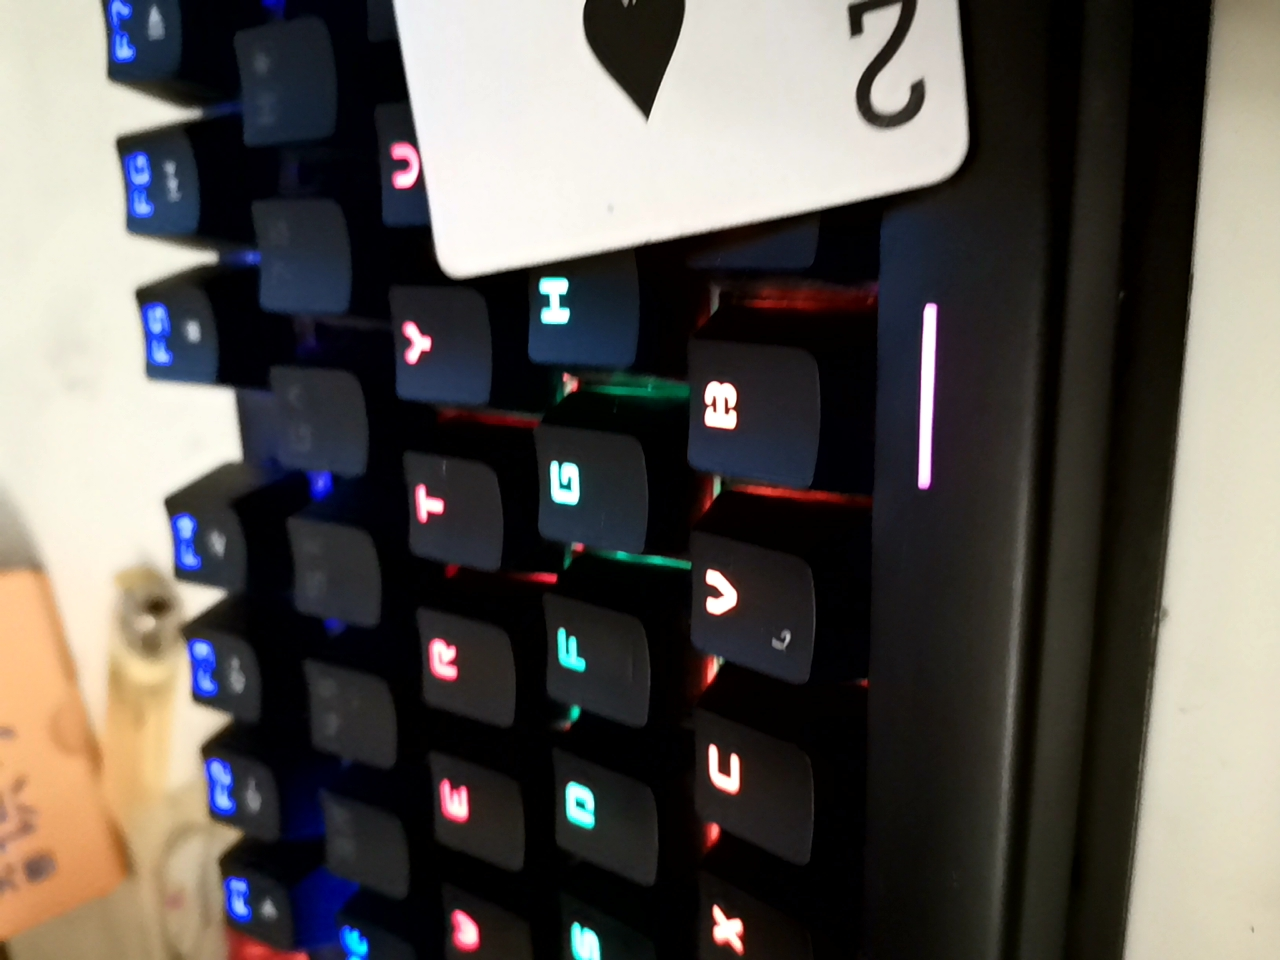ht 2: (267, 0, 942, 326)
